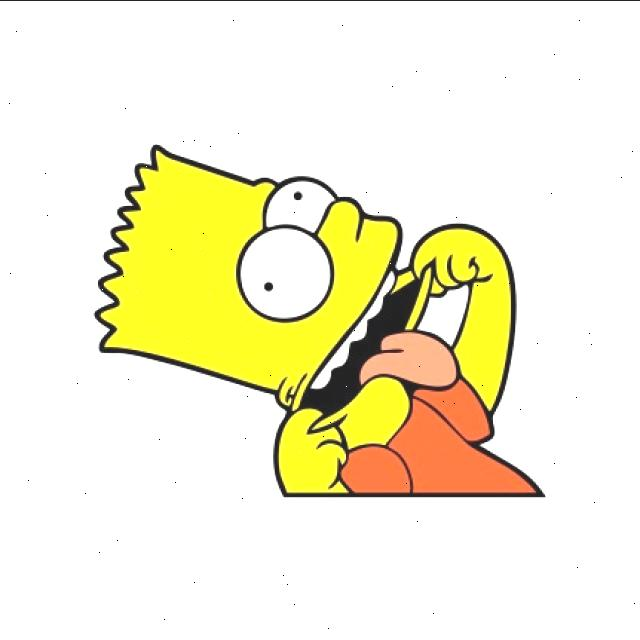Bart Simpson: (91, 142, 464, 438)
